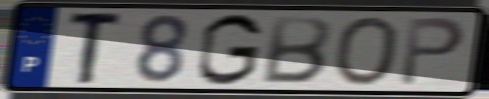8: (134, 12, 191, 86)
B: (258, 14, 334, 87)
G: (195, 11, 265, 88)
O: (331, 14, 402, 88)
P: (397, 15, 468, 89)
T: (66, 10, 127, 87)
